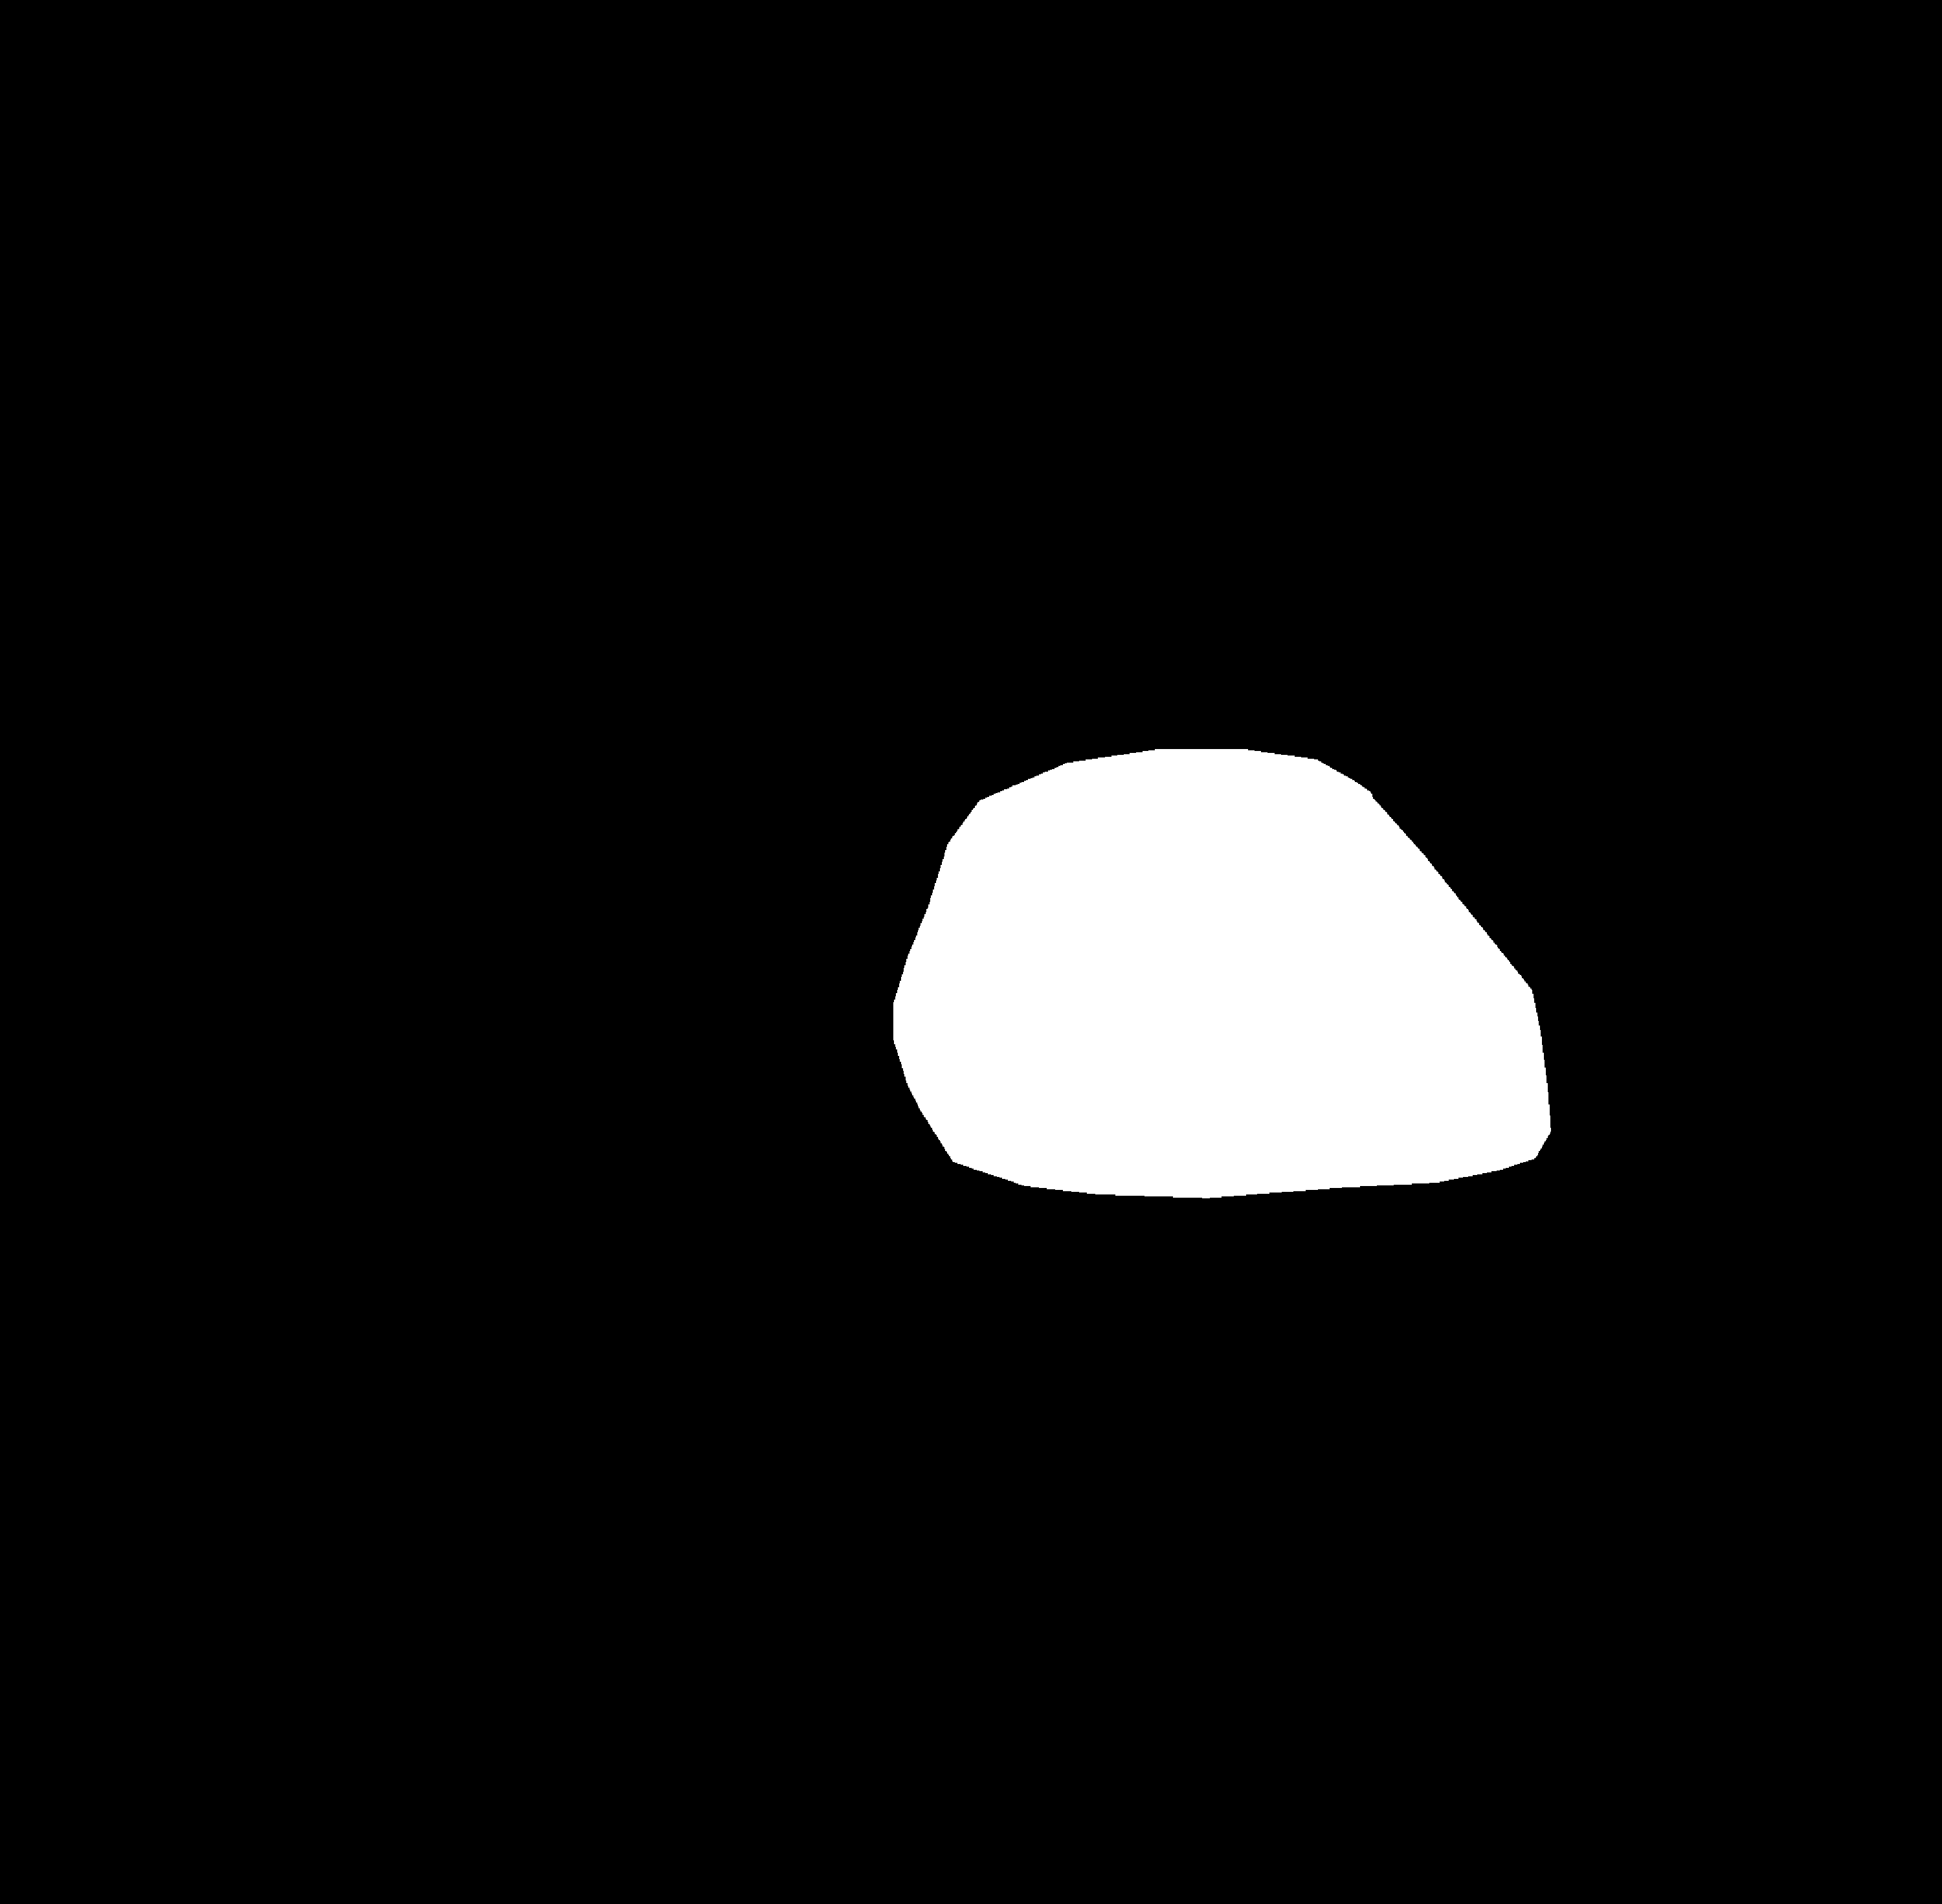heart: (891, 814, 1592, 1245)
left_lung: (458, 164, 1069, 1261)
right_lung: (1198, 146, 1785, 1290)
